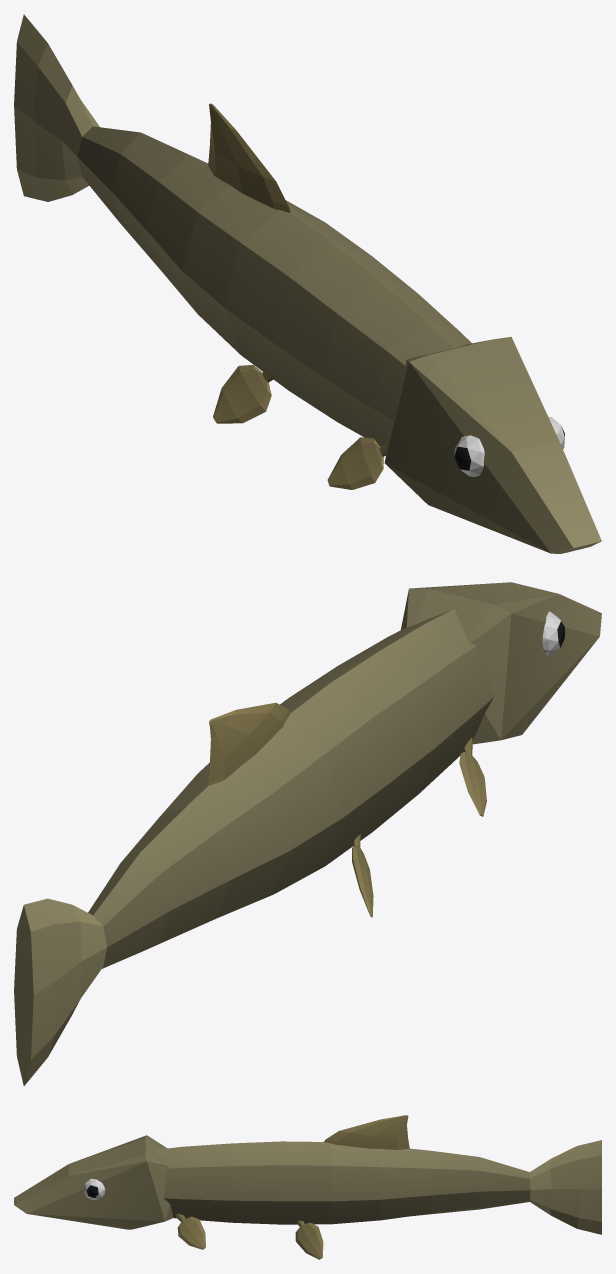
File: pike.glb
3 renders of one model, top to bottom at view 1: azimuth 30°, elevation 25°; view 2: azimuth 150°, elevation 25°; view 3: azimuth 270°, elevation 25°, orthographic. The views are drawn at different scales.
Visible parts, largest first — view 1: brochet_merged; view 2: brochet_merged; view 3: brochet_merged.
Part boxes in pixels (x1,y1,x2,y2): brochet_merged: (14, 14, 601, 553); brochet_merged: (14, 582, 601, 1085); brochet_merged: (14, 1115, 601, 1259).
Bounding box in the file's own units: 1.75 × 2.54 × 10.84.
Materials: 2 (2 with a texture image).
